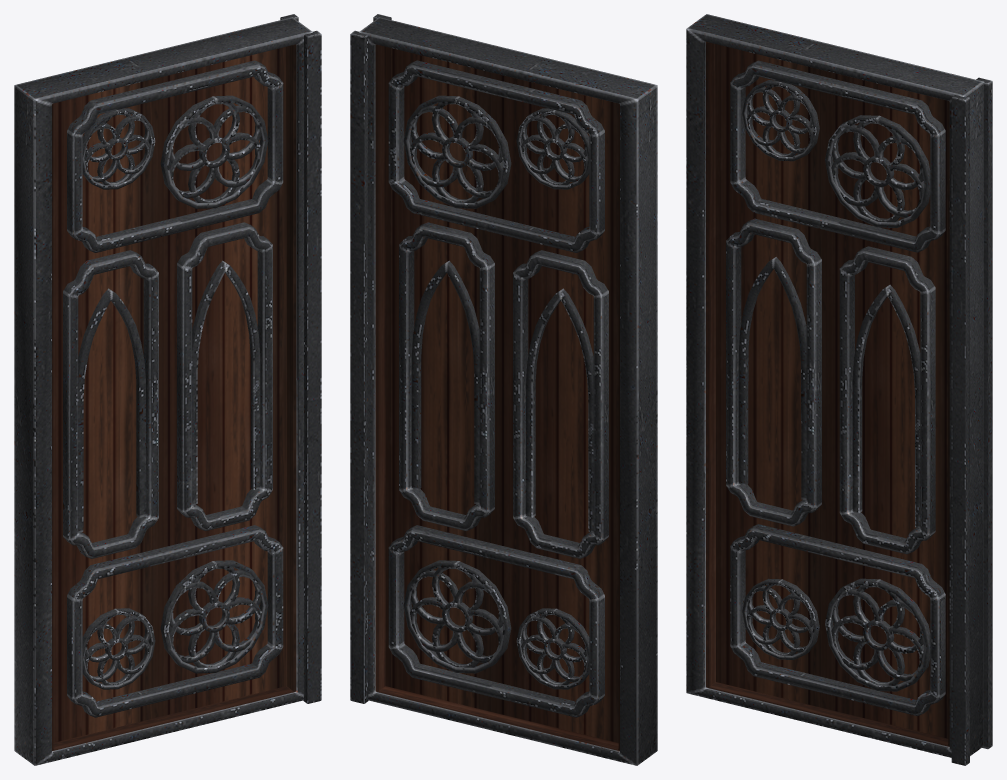
File: Door_A_left.fbx
3 views of the same model, side by side, from view 1: azimuth 30°, elevation 25°; view 2: azimuth 150°, elevation 25°; view 3: azimuth 330°, elevation 25° (orthographic).
Parts seen in each view (by area): view 1: Door_A_left; view 2: Door_A_left; view 3: Door_A_left.
Part boxes in pixels (x1,y1,x2,y2): Door_A_left: [14, 14, 321, 765]; Door_A_left: [350, 14, 657, 765]; Door_A_left: [686, 14, 992, 765].
Size of the model in its own units: 3.5 by 7.88 by 0.5804.
